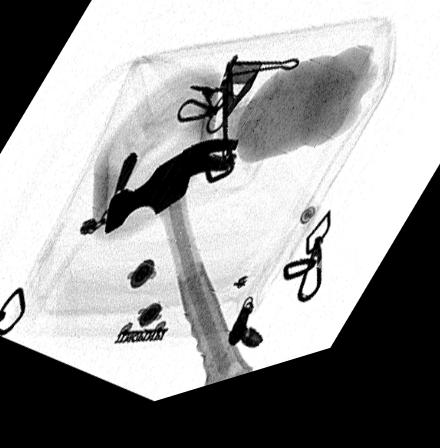Hammer: (104, 150, 252, 398)
